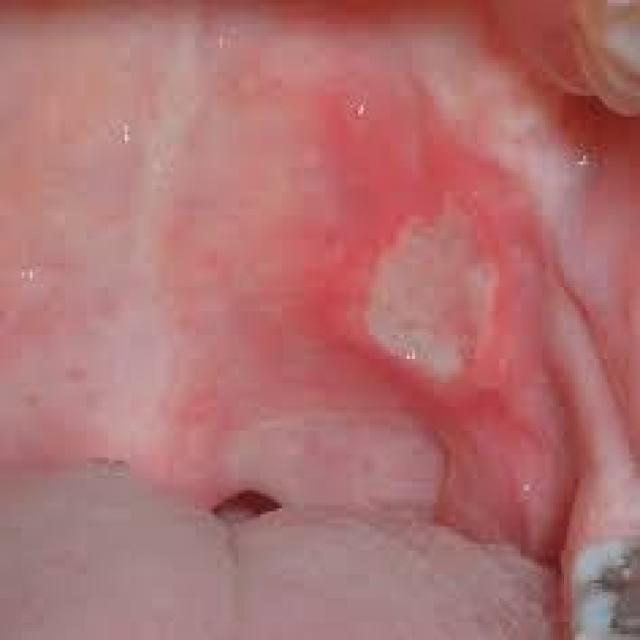processing_area: (4, 0, 637, 637)
ulcer-detection: (320, 144, 545, 428)
